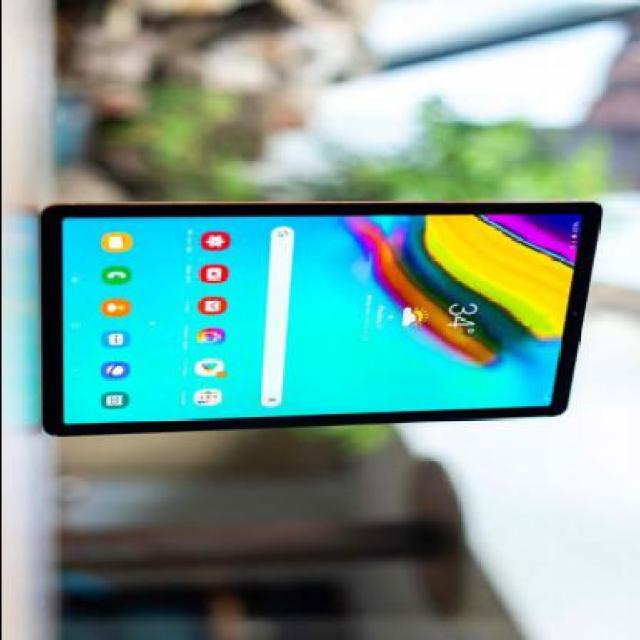tablet: (23, 185, 627, 456)
